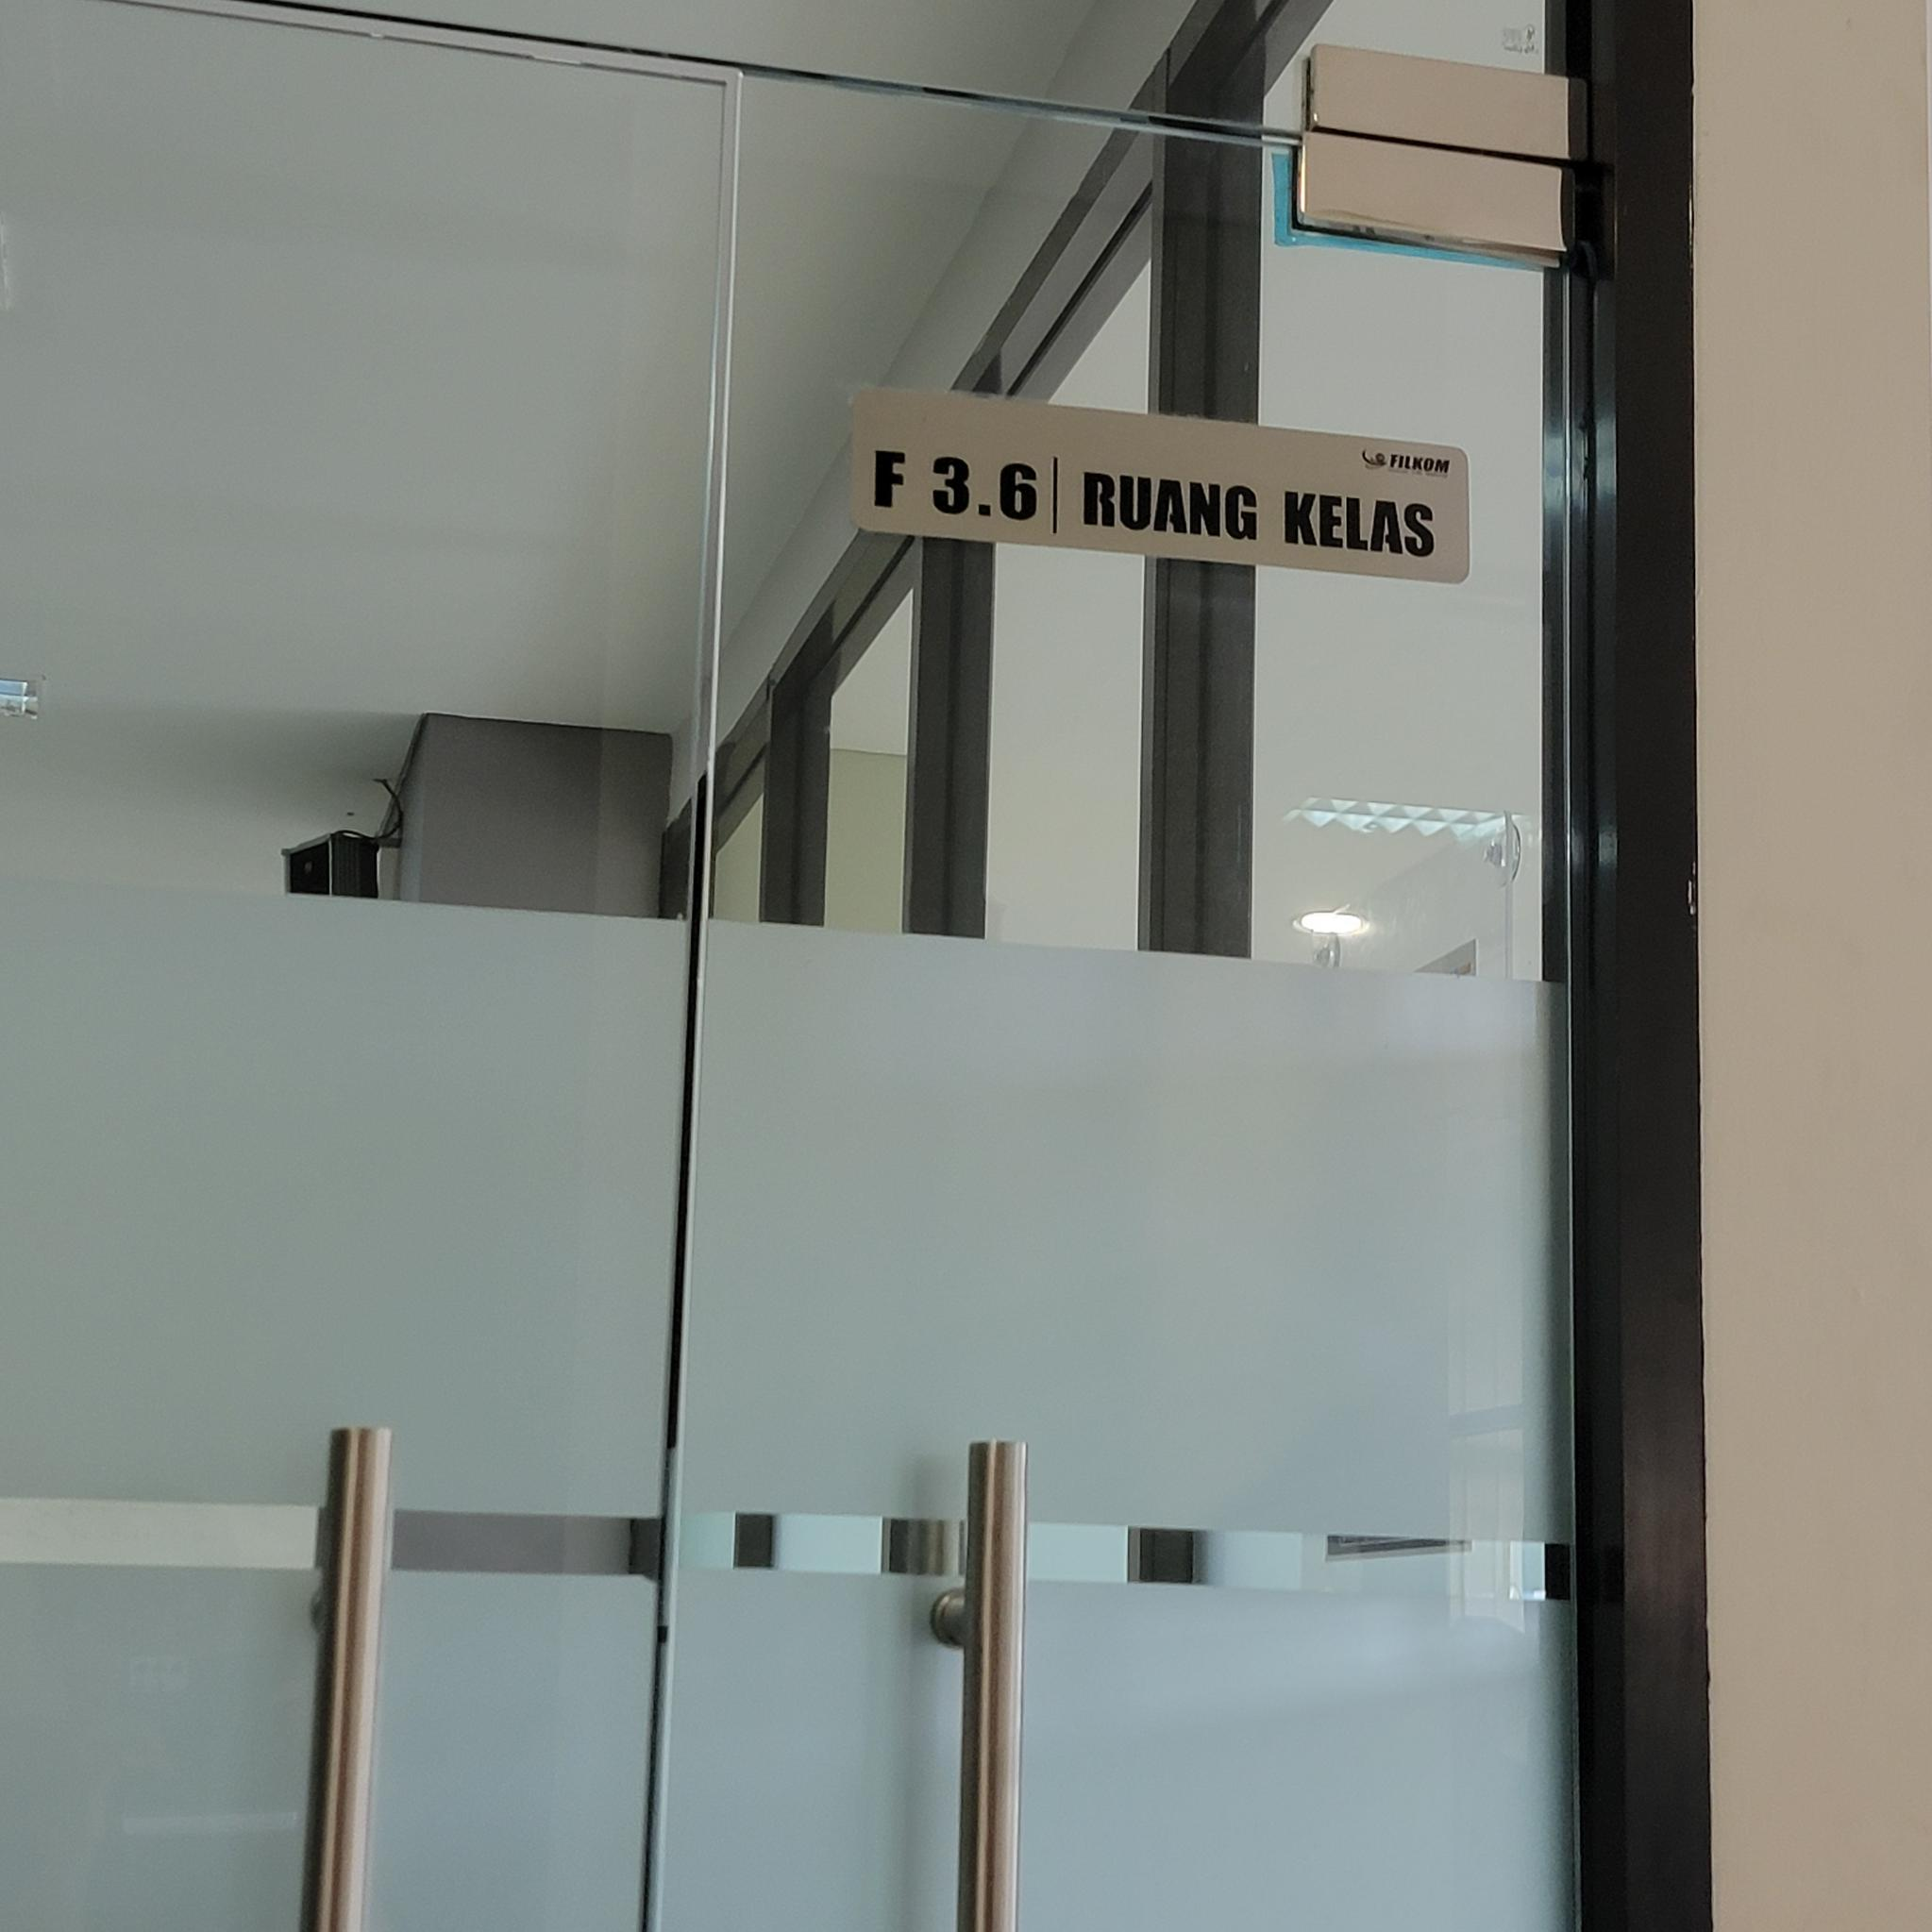plate: (851, 384, 1472, 584)
